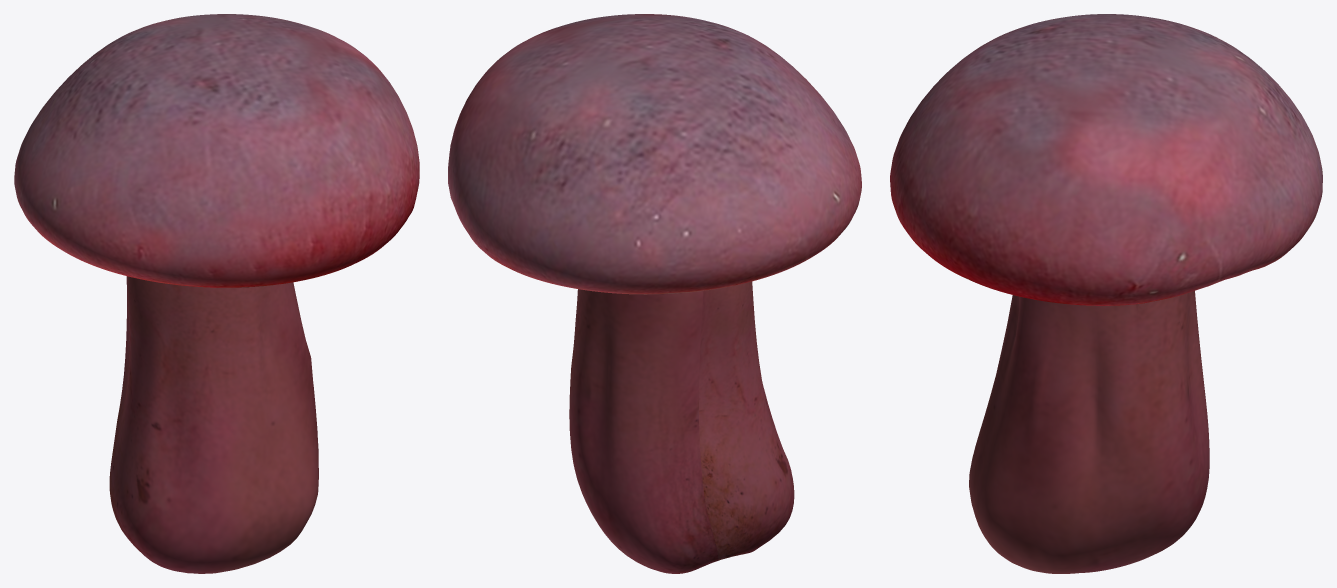
The model's file is SENE_34.fbx.
3 renders of one model, left to right at view 1: azimuth 30°, elevation 25°; view 2: azimuth 150°, elevation 25°; view 3: azimuth 270°, elevation 25°, orthographic. The views are drawn at different scales.
Visible parts, largest first — view 1: SENE_34; view 2: SENE_34; view 3: SENE_34.
Part boxes in pixels (<box>): SENE_34: <box>14,14,419,573</box>; SENE_34: <box>448,14,861,573</box>; SENE_34: <box>890,14,1322,573</box>.
Bounding box in the file's own units: 46.14 × 62.58 × 45.9.
1 material, 1 textured.
